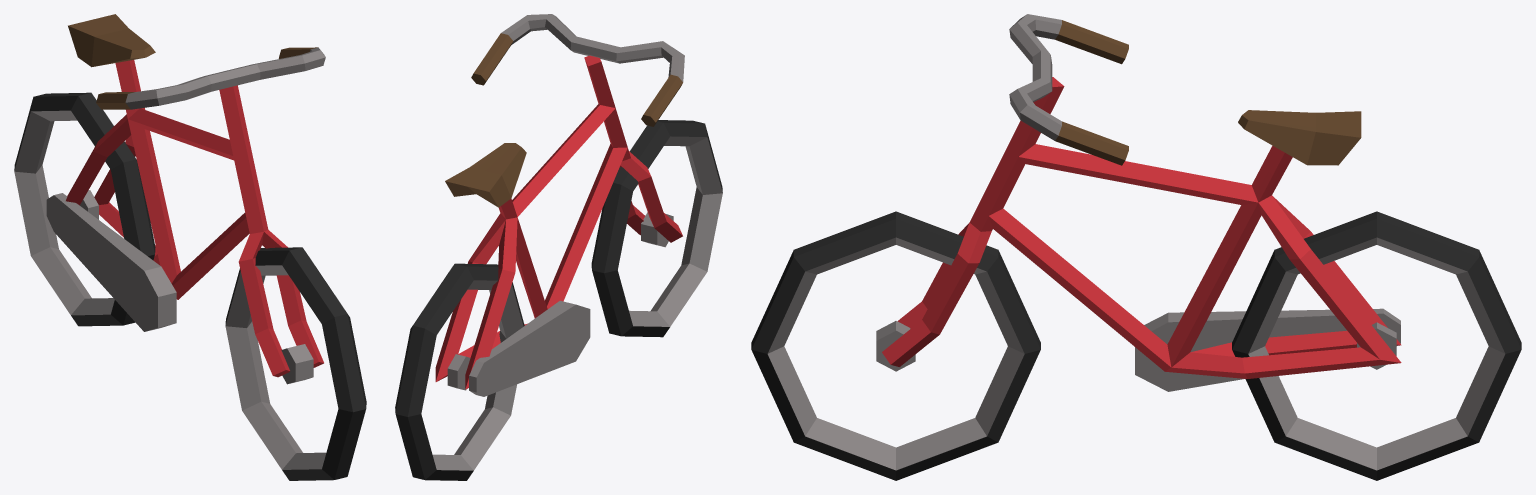
Rendered from vehicles_bike-old.fbx.
3 views of the same model, side by side, from view 1: azimuth 30°, elevation 25°; view 2: azimuth 150°, elevation 25°; view 3: azimuth 270°, elevation 25° (orthographic). The views are drawn at different scales.
Visible parts, largest first — view 1: vehicles_bike_old; view 2: vehicles_bike_old; view 3: vehicles_bike_old.
Boxes of the visible parts, x1,y1,x2,y2 form: vehicles_bike_old: [14, 14, 366, 480]; vehicles_bike_old: [395, 14, 722, 480]; vehicles_bike_old: [751, 14, 1521, 480].
Size of the model in its own units: 67.8 by 121 by 200.
